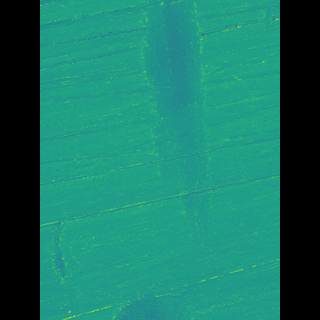Loch: (140, 0, 202, 247)
